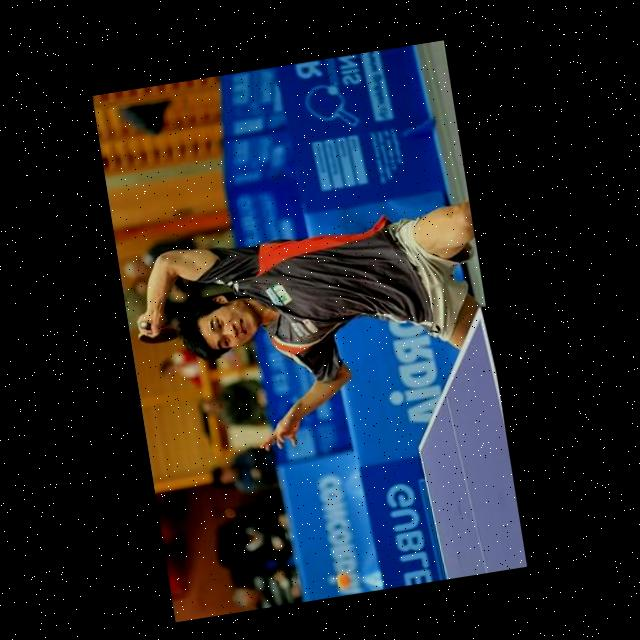ping-pong-ball: (334, 572, 352, 592)
